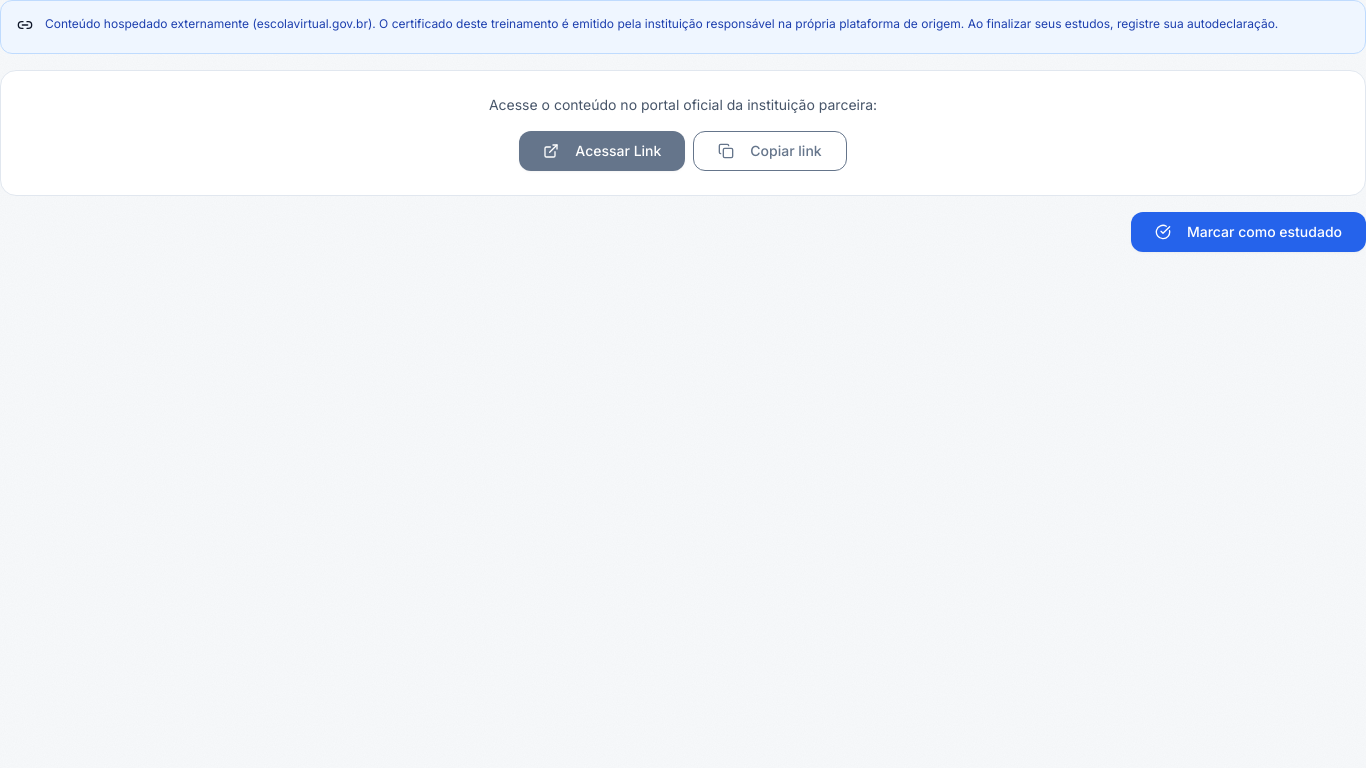
Test: ETAPA 9.2 — Player de Curso com Módulos, Aulas e Progresso Derivado › f) AulaPlayer de link externo exibe aviso de conteúdo externo e modal de autodeclaração
Later steps or results of the test are not shown.
Expected: the text "Conteúdo hospedado externamente (escolavirtual.gov.br)" is shown, [17, 14, 1349, 34]
Expected: the link "Acessar Link" is shown, [519, 130, 685, 170]
What coordinates should you click on to do the following:
click the button "Marcar como estudado"
I would click on:
 (1248, 232)
Its box is [1131, 212, 1365, 252].
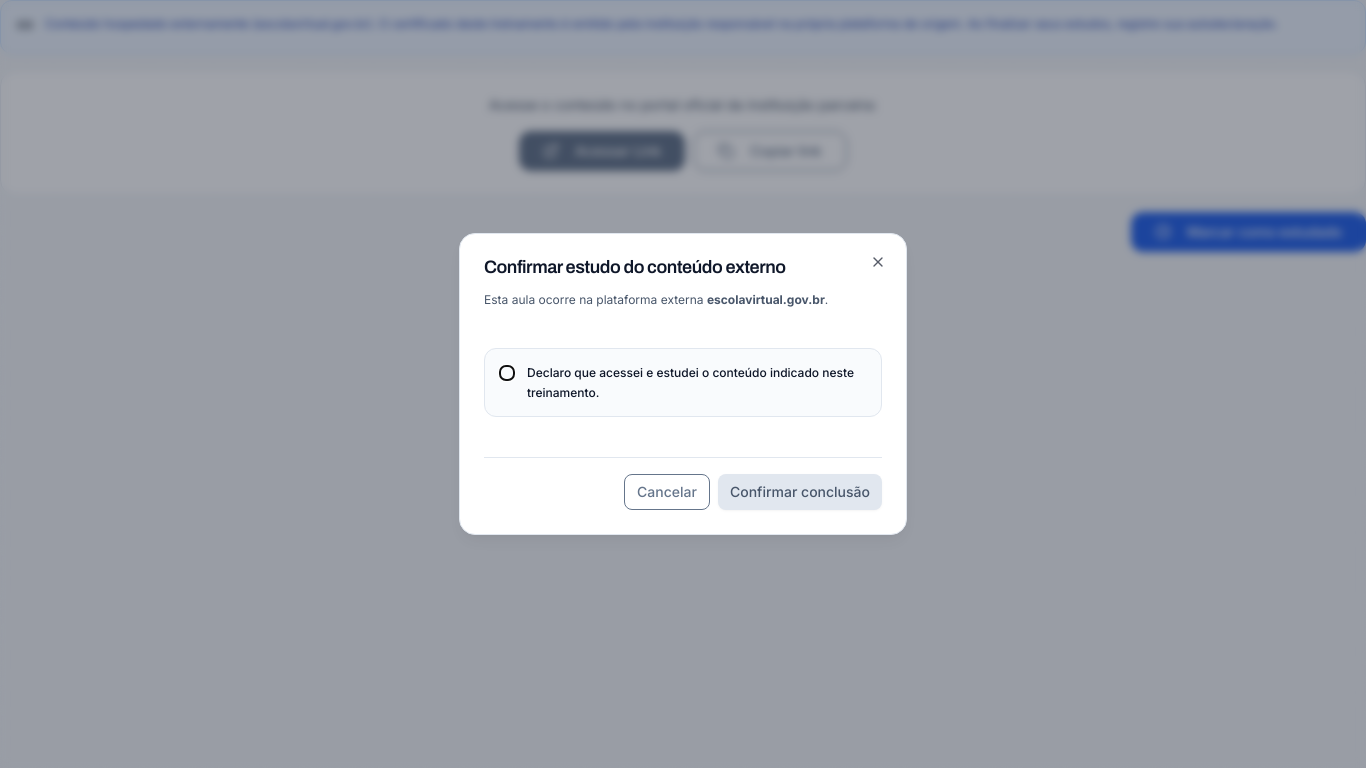
Expected: the heading "Confirmar estudo do conteúdo externo" is shown, [484, 257, 786, 277]
Expected: the button "Confirmar conclusão" is disabled, [718, 474, 882, 510]
What coordinates should you click on to do the following:
click the checkbox
I would click on:
 (507, 373)
Its box is [499, 365, 515, 381].
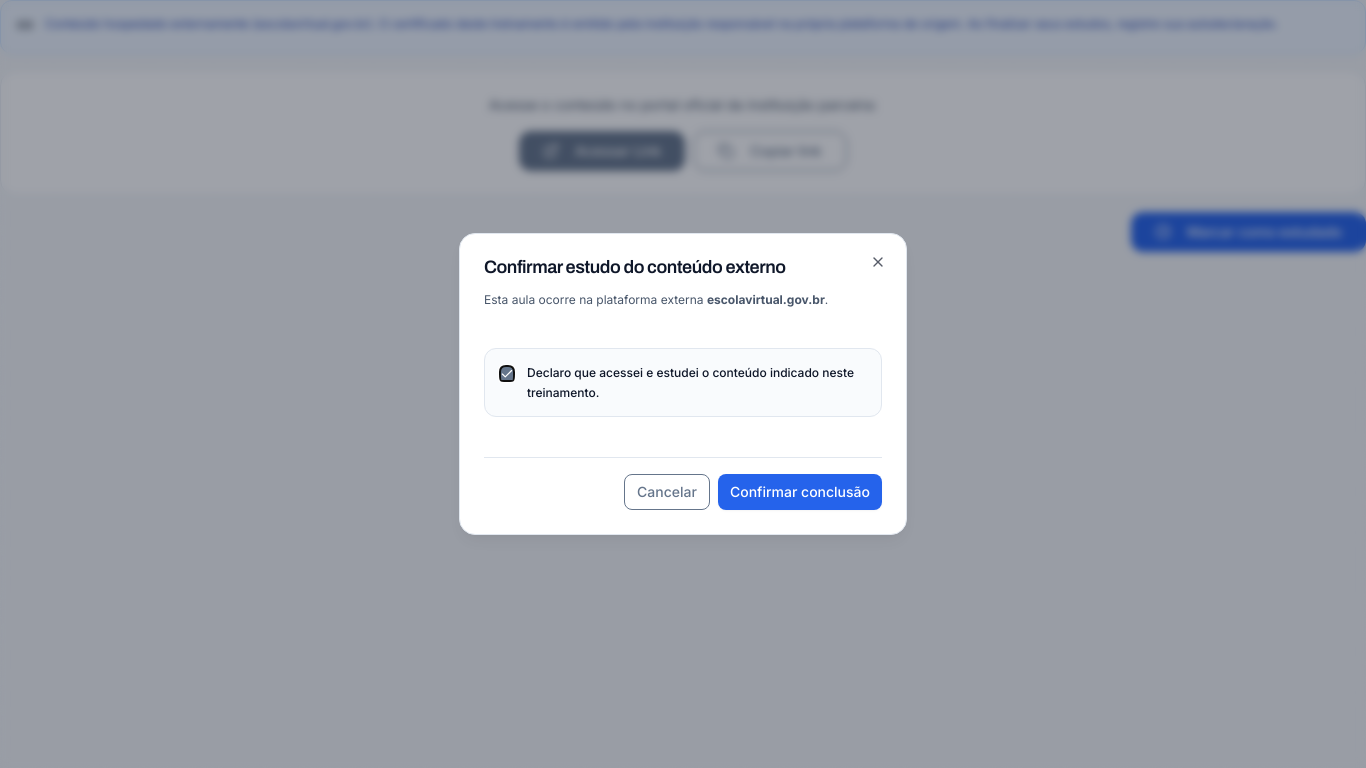
Expected: the button "Confirmar conclusão" is enabled, [718, 474, 882, 510]
